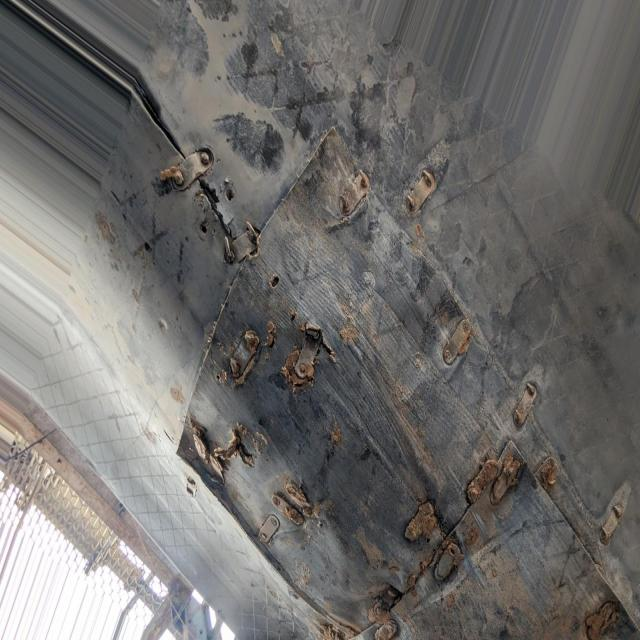patch work: (167, 126, 640, 640)
